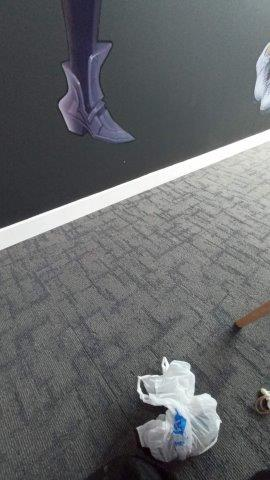plastik: (137, 358, 221, 461)
